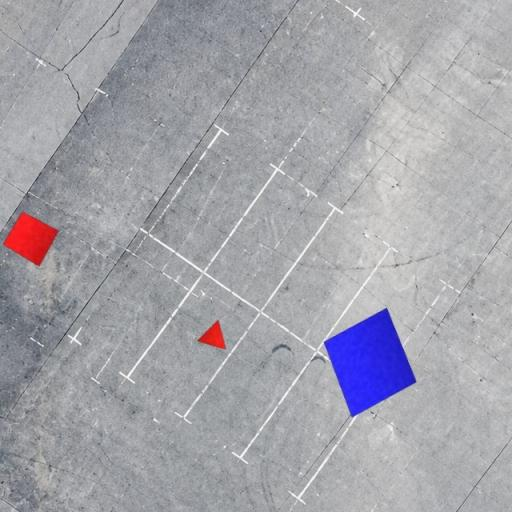BLUE_SQUARE: (323, 308, 418, 418)
RED_SQUARE: (2, 211, 60, 267)
